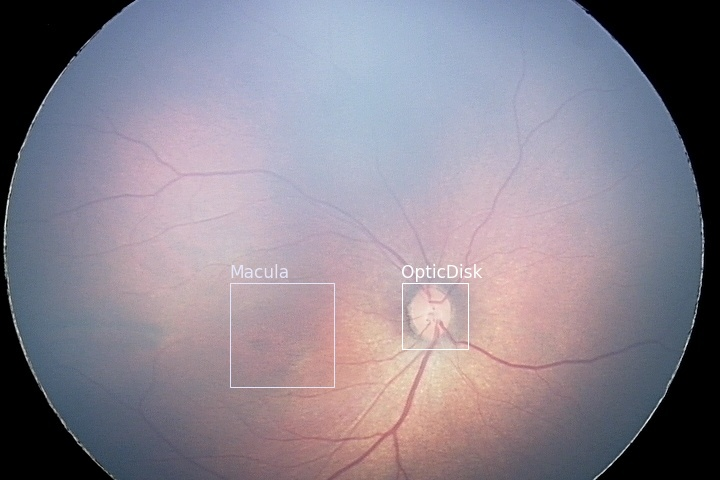Macula: (229, 282, 333, 386)
OpticDisk: (401, 282, 467, 348)
